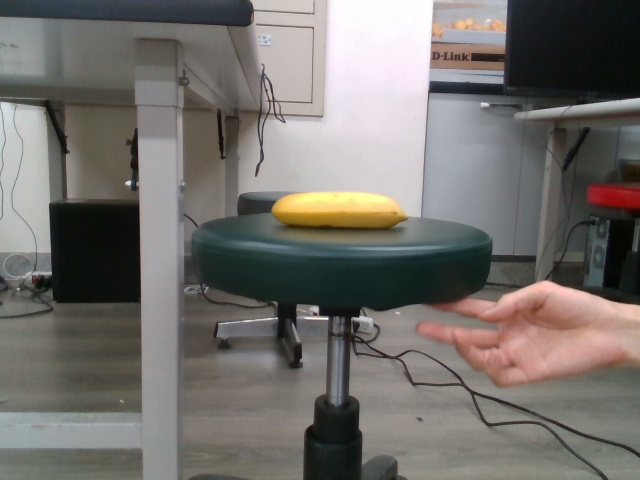banana: (268, 191, 413, 227)
